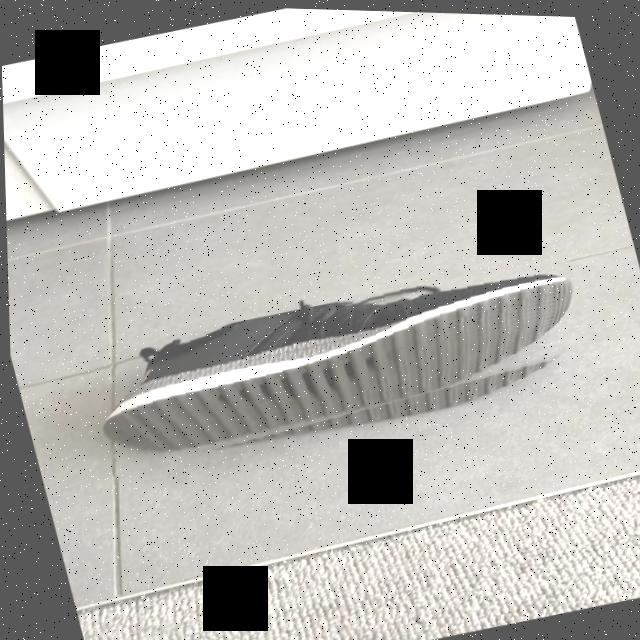shoe: (77, 240, 601, 488)
